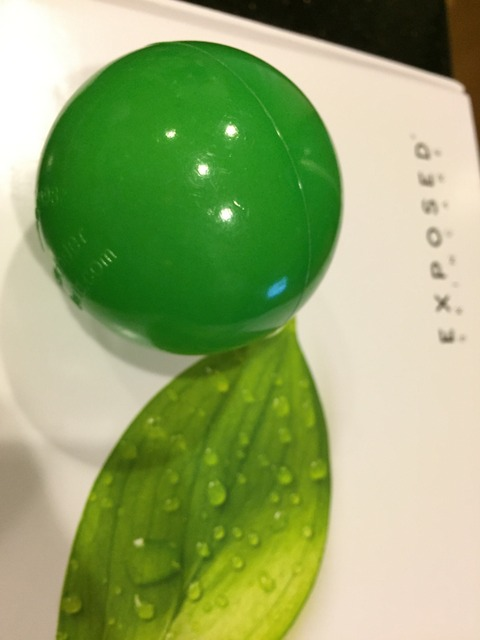Ball: (37, 40, 344, 349)
